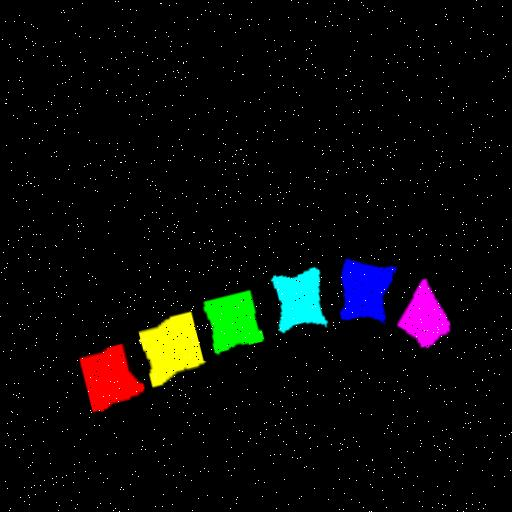L1: (80, 342, 145, 410)
L2: (140, 310, 205, 385)
L3: (206, 288, 264, 351)
L4: (275, 266, 327, 330)
L5: (343, 258, 395, 319)
S1: (399, 276, 450, 344)
